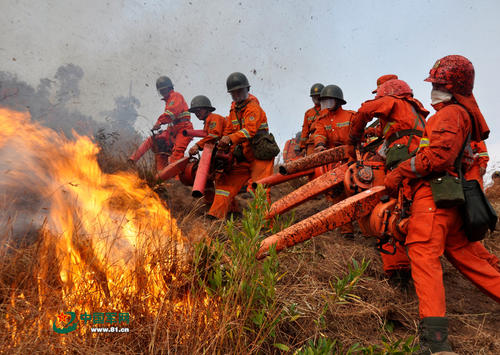fire: (1, 169, 183, 312), (1, 106, 100, 170)
